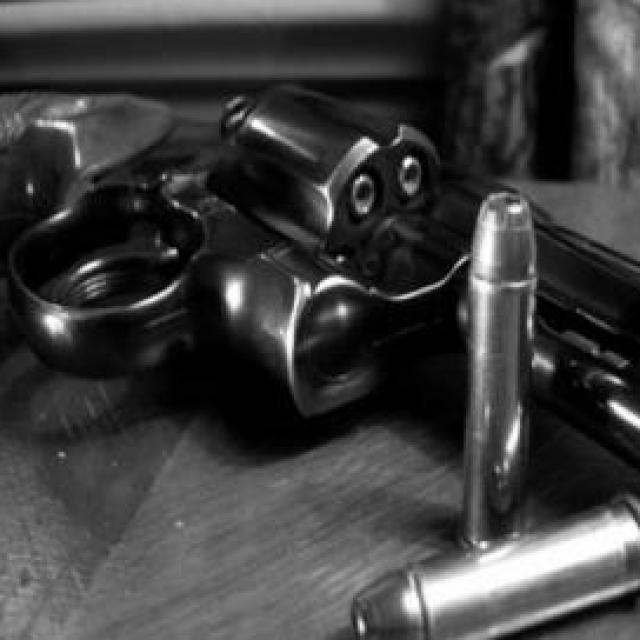pistol: (0, 76, 640, 508)
